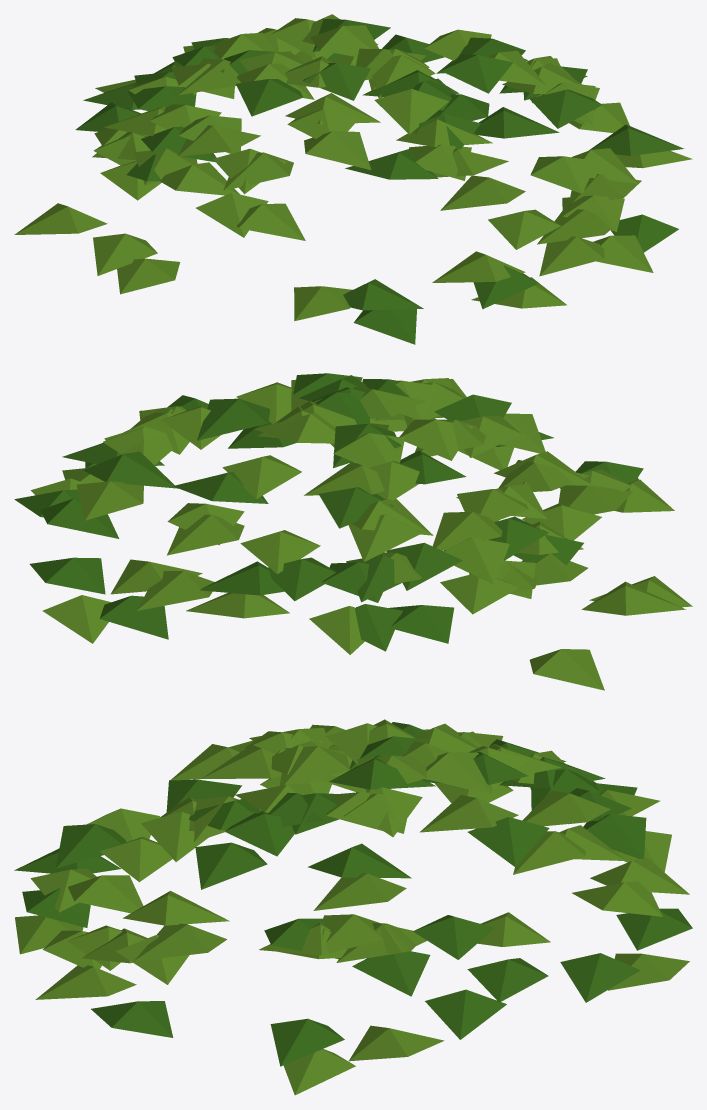
Rendered from bed_shrub_4.obj.
3 views of the same model, one above another, from view 1: azimuth 30°, elevation 25°; view 2: azimuth 150°, elevation 25°; view 3: azimuth 270°, elevation 25° (orthographic). The views are drawn at different scales.
Parts seen in each view (by area): view 1: bed_shrub_4; view 2: bed_shrub_4; view 3: bed_shrub_4.
Part boxes in pixels (x1=…): bed_shrub_4: x1=14, y1=14, x2=692, y2=344; bed_shrub_4: x1=14, y1=373, x2=692, y2=690; bed_shrub_4: x1=14, y1=719, x2=692, y2=1095.
Size of the model in its own units: 3.64 by 0.8694 by 3.27.
